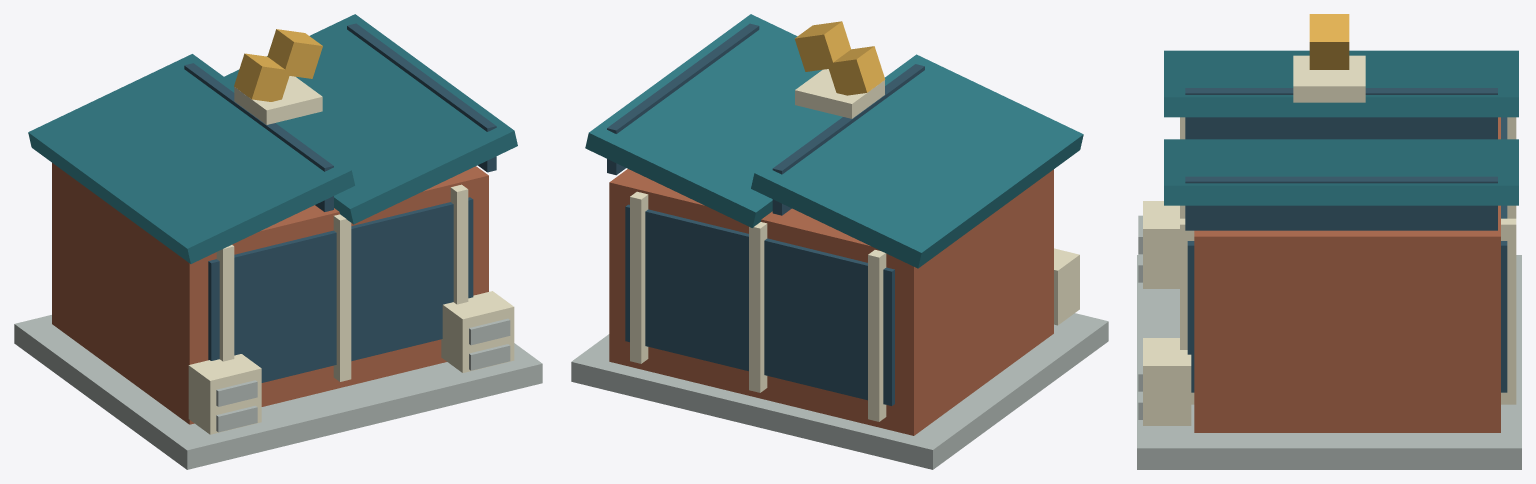
The model's file is summit-yard.glb.
The picture shows the model from 3 angles, left to right: view 1: azimuth 30°, elevation 25°; view 2: azimuth 150°, elevation 25°; view 3: azimuth 270°, elevation 25°; orthographic projection. The views are drawn at different scales.
Parts seen in each view (by area): view 1: company_summit_yard_mesh; view 2: company_summit_yard_mesh; view 3: company_summit_yard_mesh.
Part boxes in pixels (left/top/right/bottom): company_summit_yard_mesh: left=14, top=14, right=542, bottom=469; company_summit_yard_mesh: left=571, top=14, right=1108, bottom=469; company_summit_yard_mesh: left=1137, top=14, right=1521, bottom=469.
Size of the model in its own units: 3.8 by 3.33 by 3.2.
